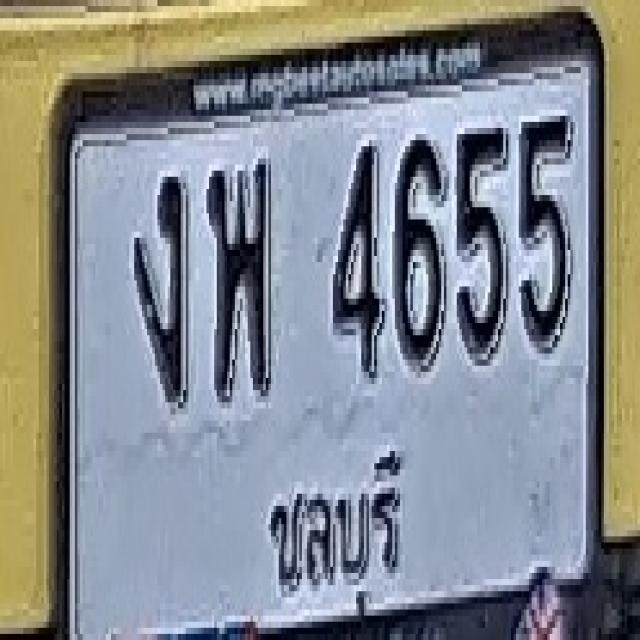-: (206, 159, 271, 396), (134, 171, 186, 402)
4: (332, 140, 381, 378)
5: (519, 113, 570, 350), (457, 125, 506, 357)
6: (393, 134, 442, 366)
CBI: (253, 430, 413, 628)
